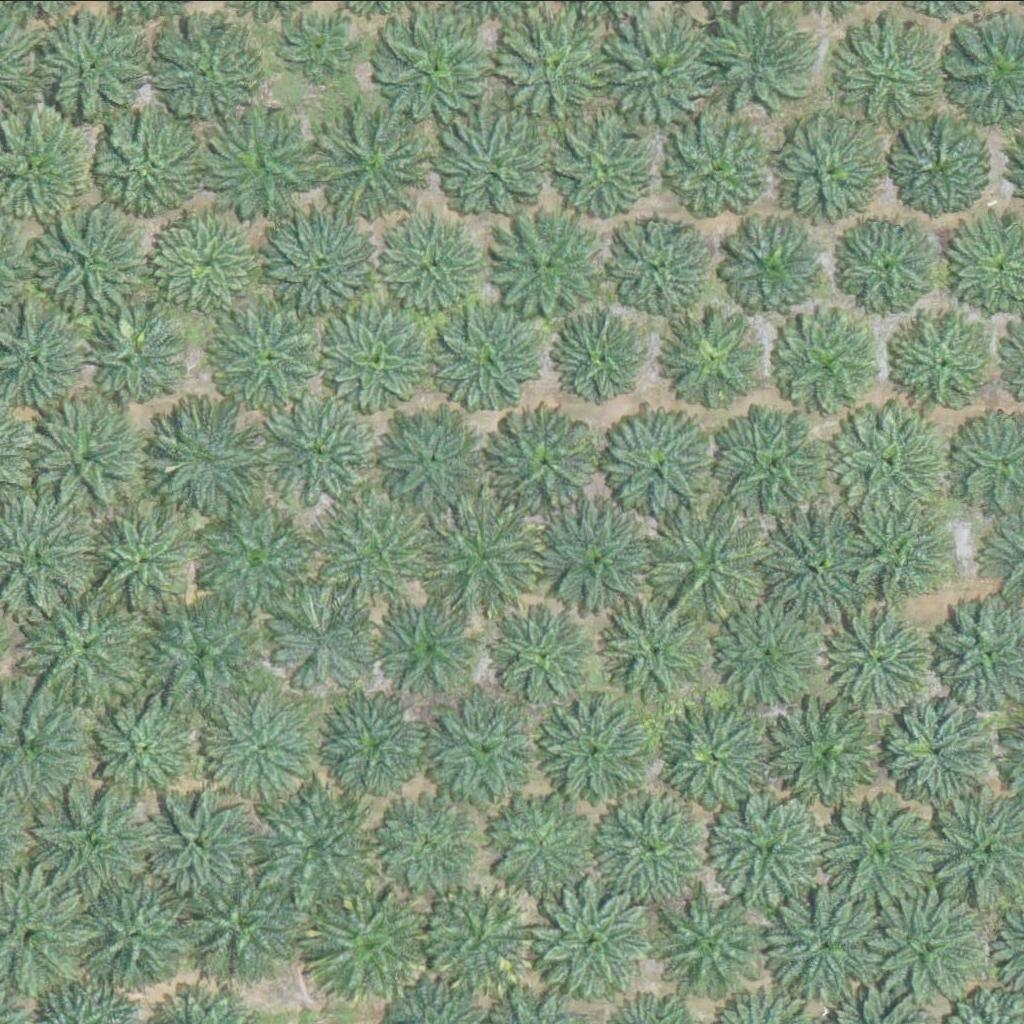Kelapa_Sawit: (25, 577, 151, 702), (833, 403, 959, 528), (313, 882, 438, 1007), (323, 301, 437, 414), (378, 407, 492, 520), (767, 114, 881, 227), (145, 784, 258, 897), (41, 787, 154, 900), (325, 688, 438, 801), (154, 403, 267, 516), (34, 400, 147, 513), (213, 298, 326, 411), (377, 10, 490, 123), (493, 209, 606, 322), (647, 503, 760, 616), (760, 511, 873, 624), (825, 602, 938, 715), (536, 698, 649, 811), (532, 880, 645, 993), (659, 883, 772, 996), (772, 889, 885, 1002), (880, 890, 993, 1003), (823, 796, 936, 909), (154, 599, 268, 711), (205, 504, 319, 616), (264, 390, 378, 502), (486, 408, 600, 520), (599, 413, 713, 525), (425, 499, 539, 611), (83, 877, 196, 989), (181, 870, 294, 982), (268, 788, 381, 900), (325, 500, 438, 612), (269, 212, 382, 324), (152, 206, 265, 318), (38, 205, 151, 317), (208, 107, 321, 219), (322, 112, 435, 224), (502, 6, 615, 118), (604, 10, 717, 122), (830, 13, 943, 125), (433, 111, 546, 223), (543, 113, 656, 225), (893, 303, 1006, 415), (773, 306, 886, 418), (711, 408, 824, 520), (544, 506, 657, 618), (657, 703, 770, 815), (775, 696, 888, 808), (484, 790, 597, 902), (594, 789, 707, 901), (710, 791, 823, 903), (888, 693, 1001, 805), (210, 693, 311, 793), (381, 599, 482, 699), (79, 306, 180, 406), (97, 113, 198, 213), (155, 21, 256, 121), (42, 15, 143, 115), (711, 13, 812, 113), (666, 117, 767, 217), (440, 306, 541, 406), (492, 606, 593, 706), (599, 602, 700, 702), (716, 604, 817, 704), (434, 698, 535, 798), (377, 795, 478, 895), (427, 889, 528, 989), (93, 700, 193, 800), (278, 593, 378, 693), (89, 507, 189, 607), (384, 211, 484, 311), (888, 106, 988, 206), (612, 211, 712, 311), (721, 217, 821, 317), (840, 216, 940, 316), (554, 302, 654, 402), (664, 301, 764, 401), (282, 9, 357, 84), (864, 520, 939, 595)
